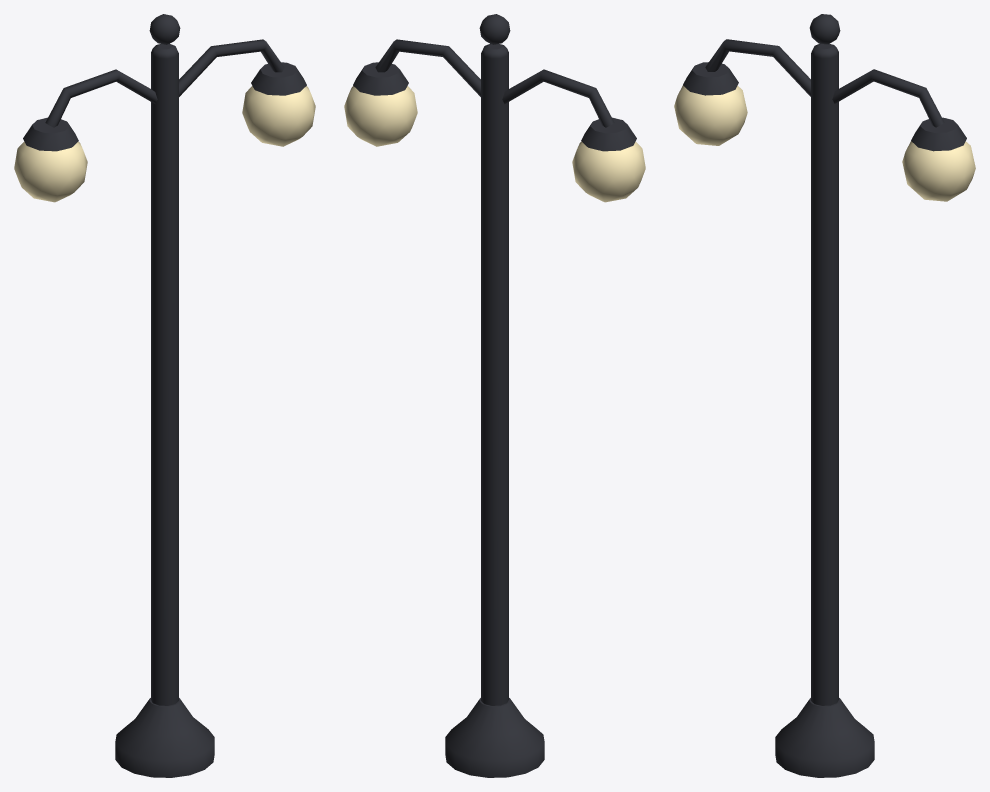
Rendered from furn_od_lamp_double.glb.
The picture shows the model from 3 angles, left to right: view 1: azimuth 30°, elevation 25°; view 2: azimuth 150°, elevation 25°; view 3: azimuth 330°, elevation 25°; orthographic projection.
Visible parts, largest first — view 1: furn_od_lamp_double_main, furn_od_lamp_double_glow; view 2: furn_od_lamp_double_main, furn_od_lamp_double_glow; view 3: furn_od_lamp_double_main, furn_od_lamp_double_glow.
Boxes of the visible parts, x1,y1,x2,y2 form: furn_od_lamp_double_main: (23,14,306,777); furn_od_lamp_double_glow: (14,86,315,202); furn_od_lamp_double_main: (353,14,636,777); furn_od_lamp_double_glow: (344,86,645,202); furn_od_lamp_double_main: (683,14,966,777); furn_od_lamp_double_glow: (674,85,975,201).
Size of the model in its own units: 1.07 by 2.61 by 0.32.
